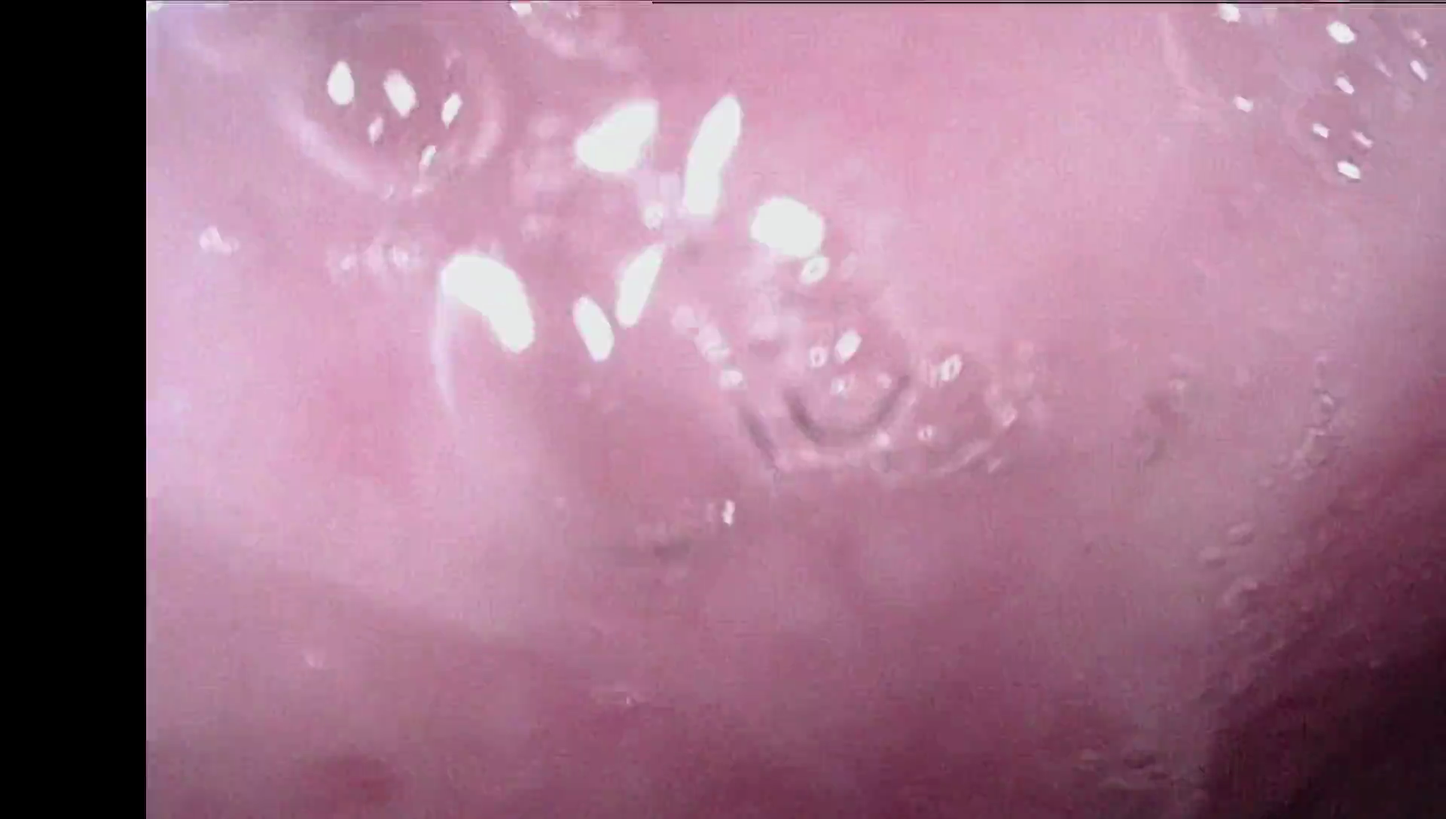close_wall: (145, 0, 1187, 525)
next: (1221, 584, 1446, 819)
